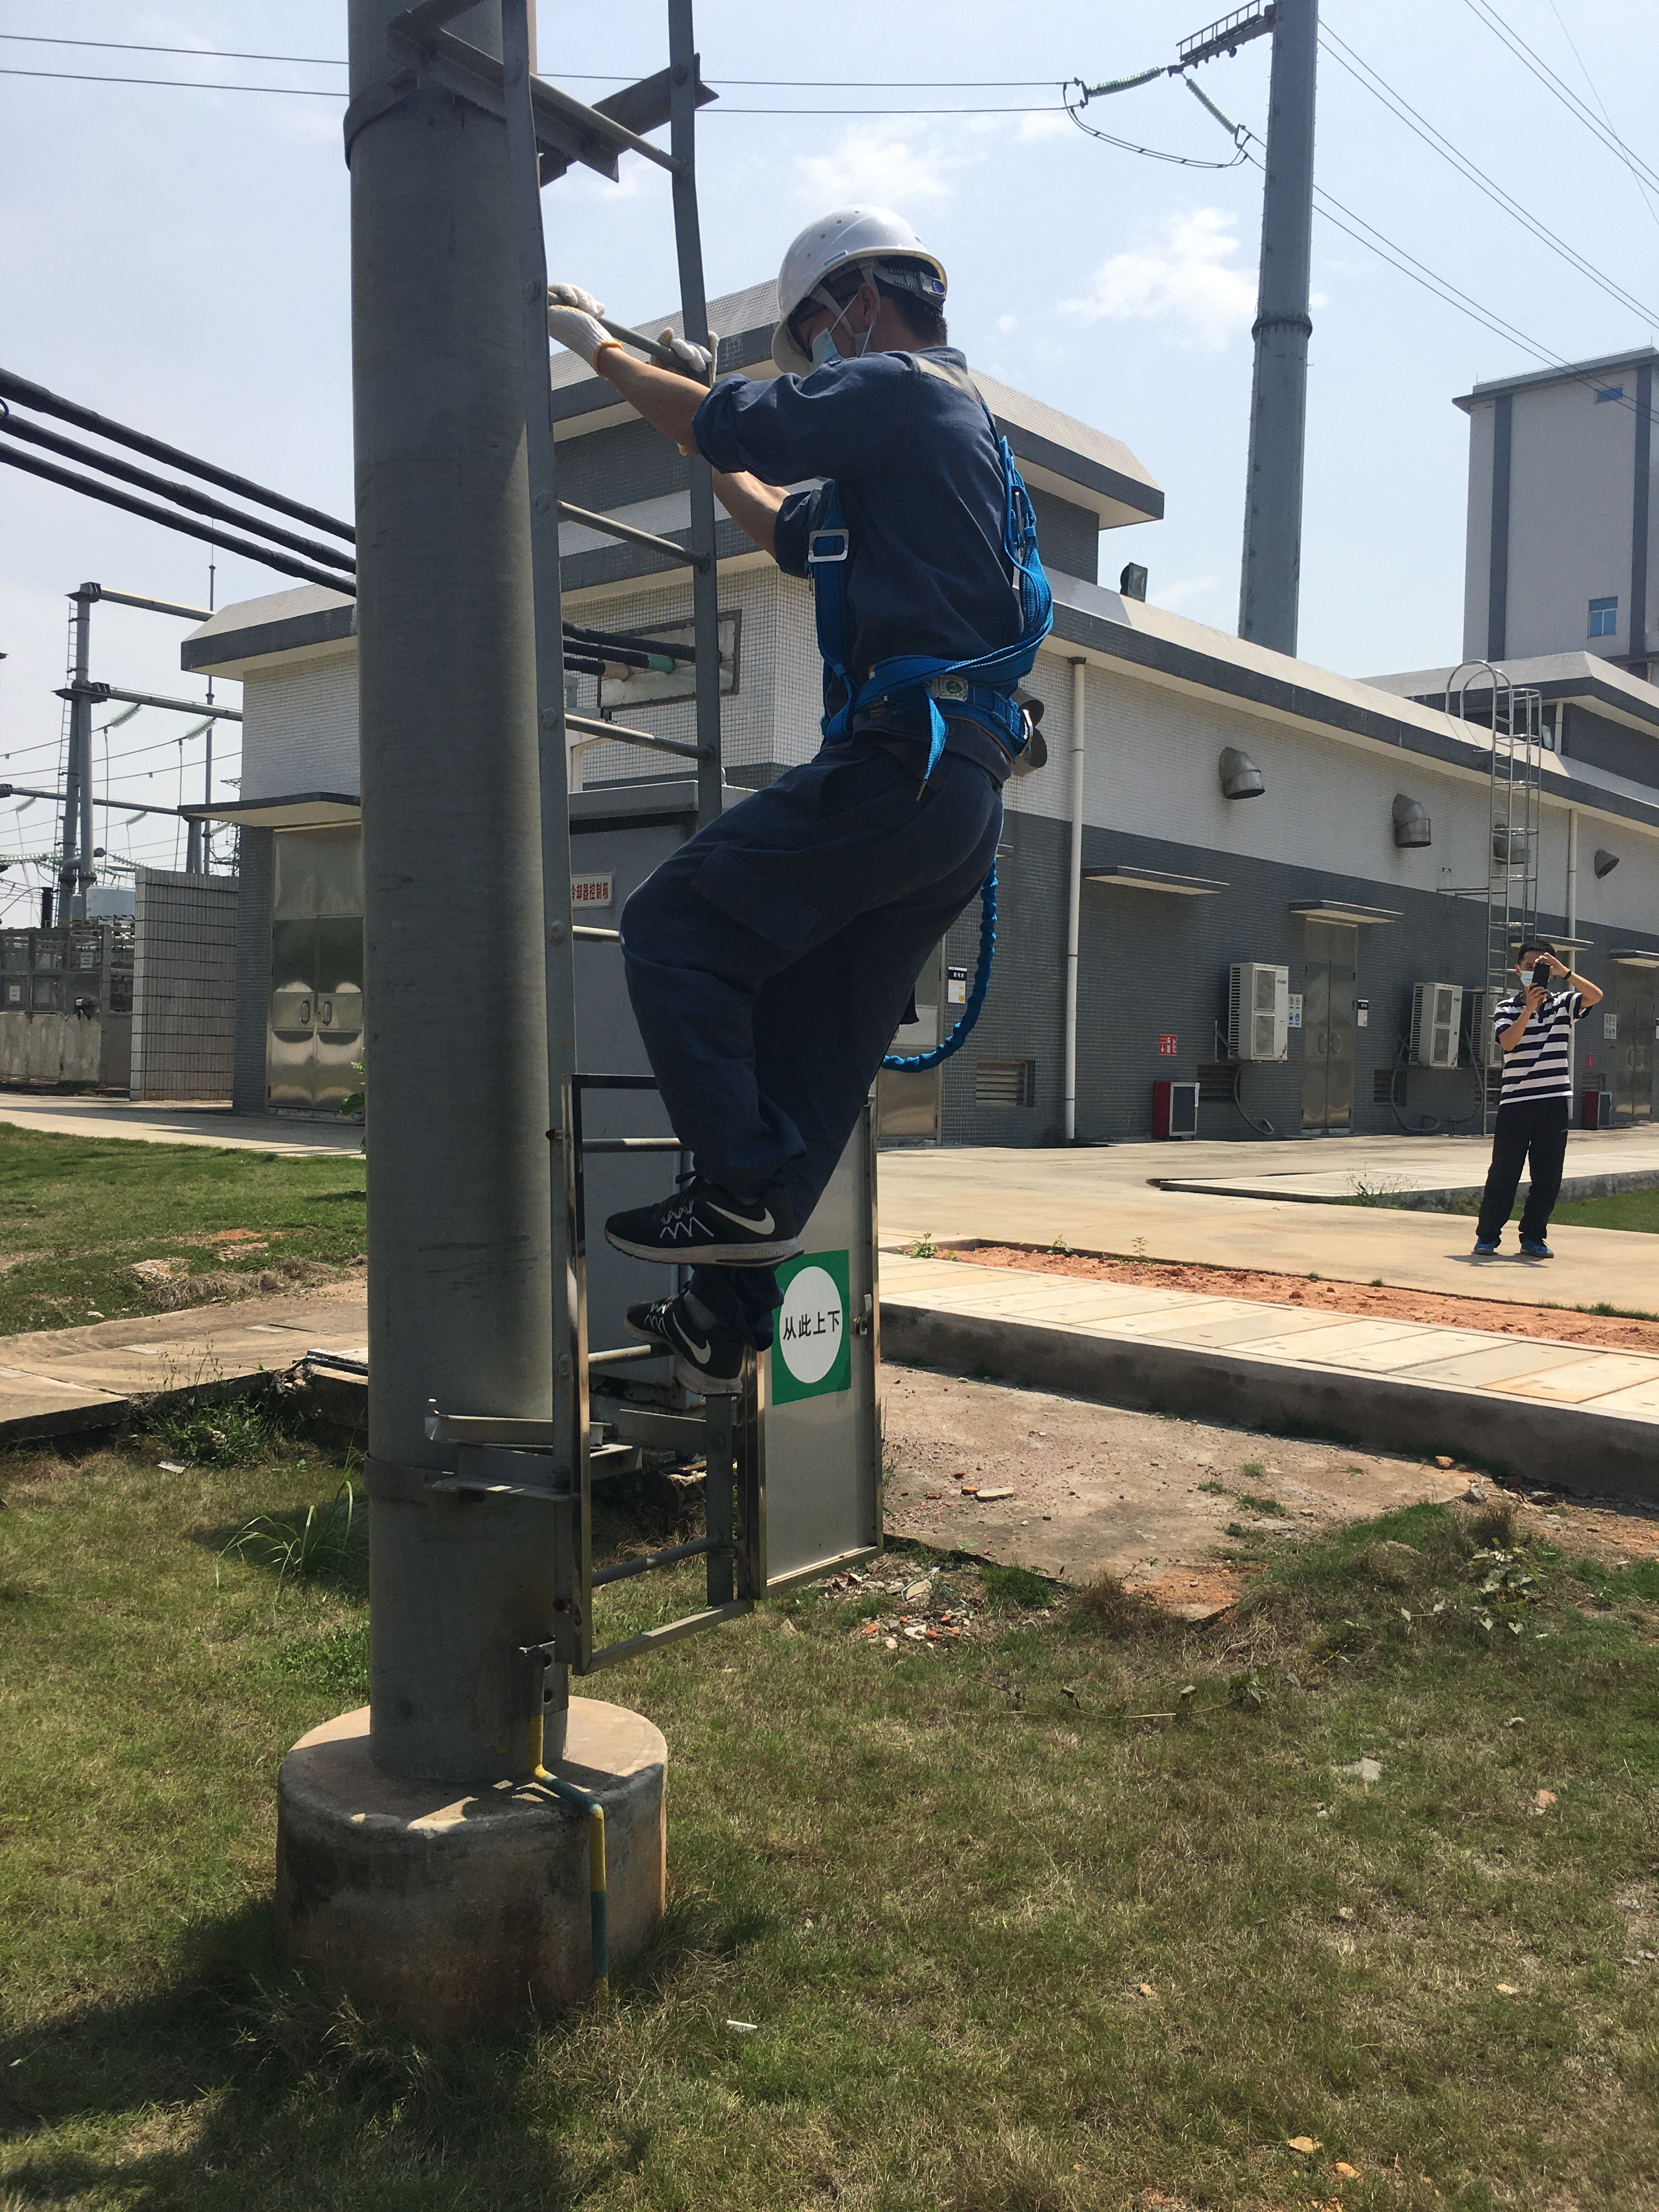downcloth: (1477, 1101, 1575, 1245)
downsuit: (618, 764, 1013, 1250)
halt: (765, 205, 955, 369)
inear: (806, 261, 888, 355)
intosign: (771, 1249, 854, 1409)
person: (545, 206, 1052, 1379), (1465, 940, 1610, 1266)
safebelt: (774, 333, 1065, 1080)
unhalt: (1517, 943, 1565, 990)
upcloth: (1494, 985, 1598, 1101)
upsuit: (699, 342, 1054, 723)
wglove: (544, 282, 623, 375)
wrongtop: (562, 323, 725, 449), (706, 449, 804, 579)
